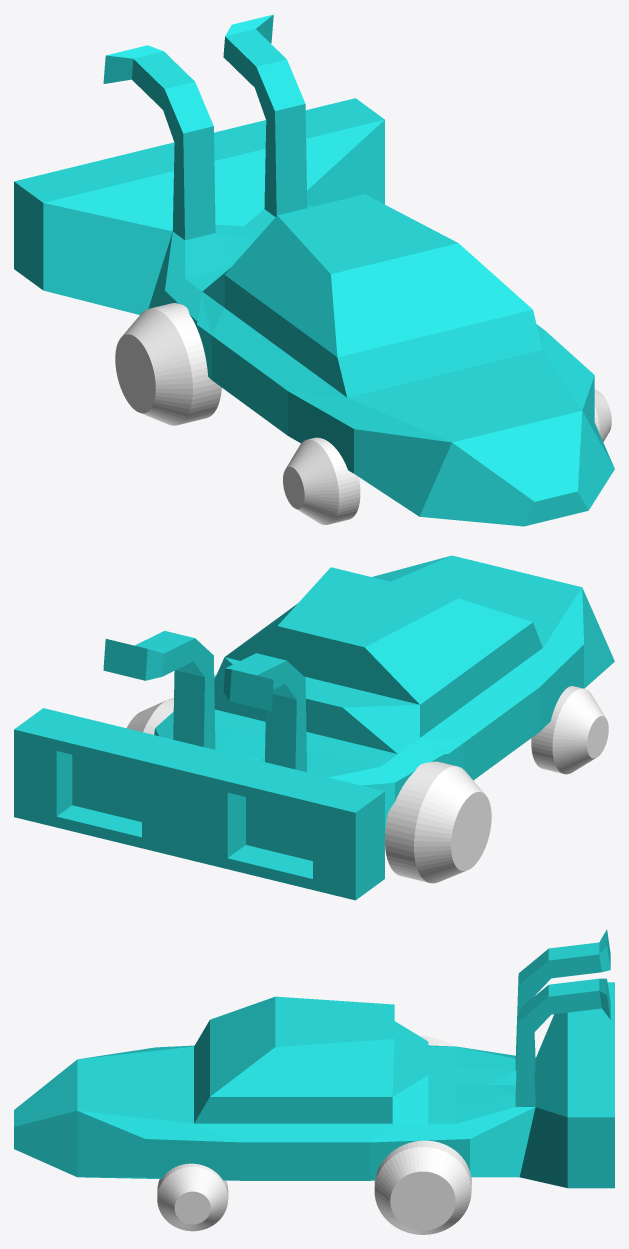
The model's file is centerpiece.glb.
3 views of the same model, one above another, from view 1: azimuth 30°, elevation 25°; view 2: azimuth 150°, elevation 25°; view 3: azimuth 270°, elevation 25° (orthographic). The views are drawn at different scales.
Visible parts, largest first — view 1: Cube, Cylinder.002, Cylinder.003; view 2: Cube, Cylinder.002, Cylinder.003, Cylinder.001; view 3: Cube, Cylinder.001, Cylinder.
Part boxes in pixels (x1,y1,x2,y2): Cube: (14,14,614,526); Cylinder.002: (115,303,221,425); Cylinder.003: (283,437,360,524); Cube: (14,555,614,900); Cylinder.002: (385,761,491,883); Cylinder.003: (531,686,608,774); Cylinder.001: (127,698,173,734); Cube: (14,929,614,1188); Cylinder.001: (374,1140,471,1234); Cylinder: (157,1163,228,1231).
Bounding box in the file's own units: 2.62 × 1.97 × 4.93.
